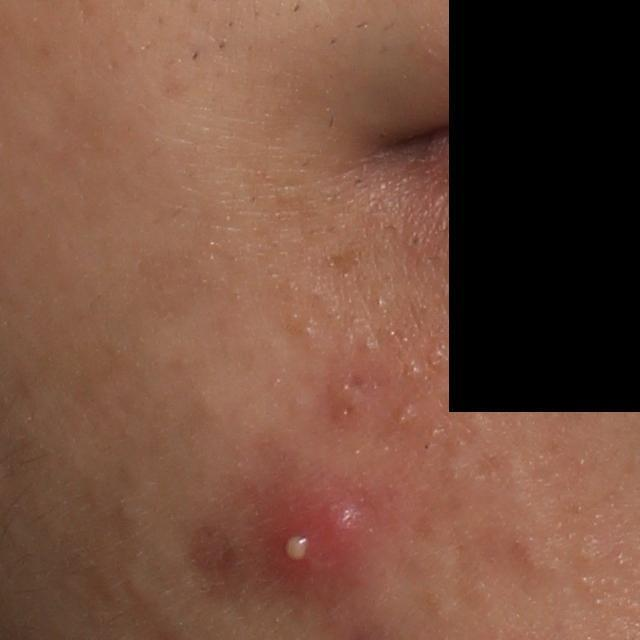comedo: (406, 230, 426, 252)
pustule: (257, 486, 362, 595)
